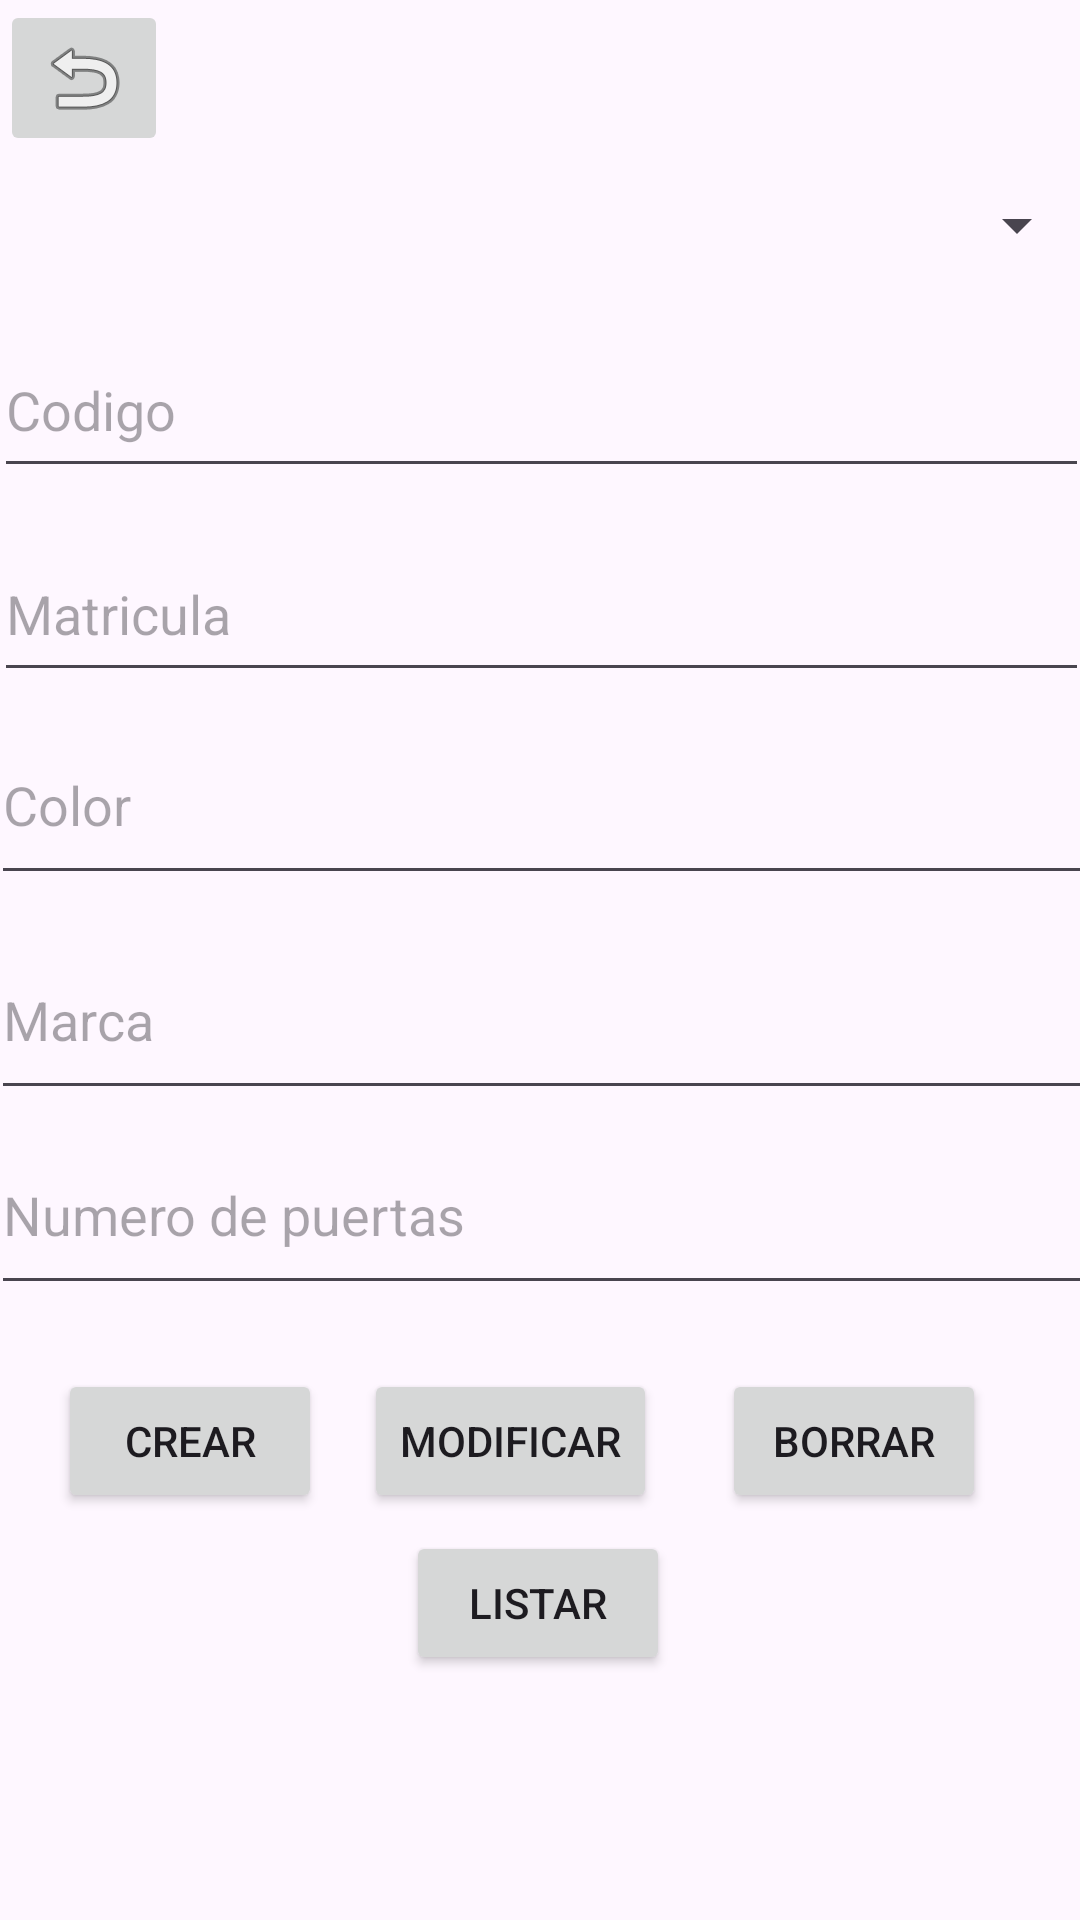

Named icons in this screenshot (1080x1920) and their bounding boxes, (x1, y1, x2, y2):
revert: (12, 18, 156, 138)
